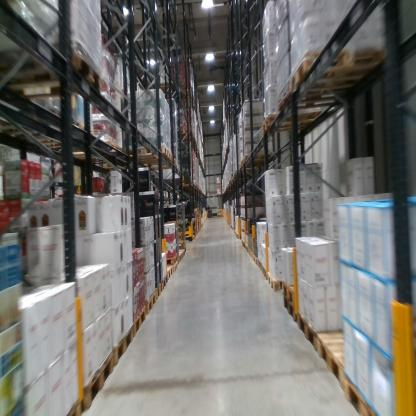pallet: (3, 42, 102, 105), (286, 47, 381, 90), (315, 324, 353, 396), (338, 375, 393, 414), (260, 107, 335, 135), (83, 349, 113, 411), (278, 85, 335, 109), (51, 139, 118, 157), (297, 312, 323, 358), (110, 322, 133, 370), (136, 153, 174, 171), (131, 301, 148, 341), (124, 145, 169, 160), (268, 272, 290, 294), (243, 153, 279, 166), (282, 296, 297, 324), (282, 281, 298, 306), (62, 396, 84, 413), (154, 158, 179, 171), (240, 159, 268, 170), (154, 281, 164, 308), (147, 289, 157, 314), (176, 129, 192, 143), (164, 252, 178, 267), (171, 260, 179, 274), (263, 266, 270, 281), (166, 266, 172, 282), (164, 272, 168, 289), (253, 255, 259, 266), (259, 258, 263, 274), (250, 251, 255, 260)
